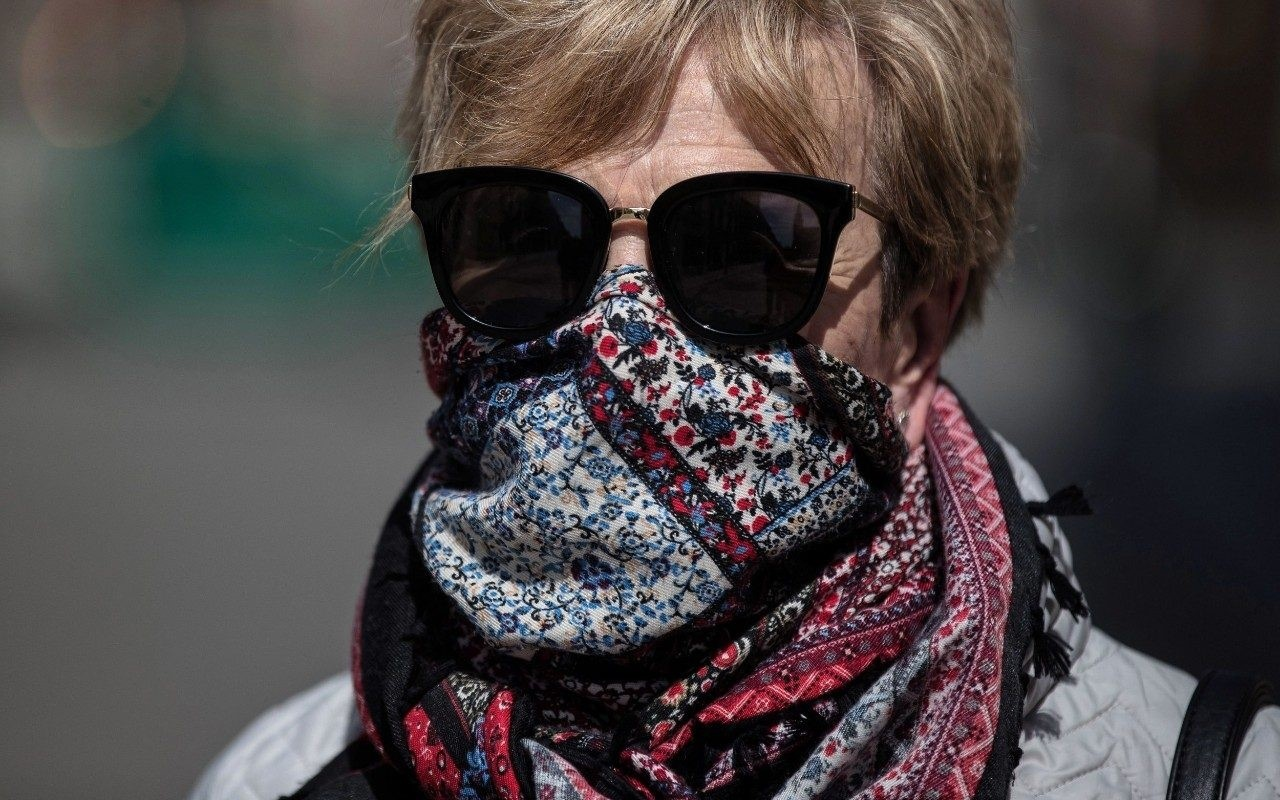face_with_mask: (414, 4, 956, 589)
